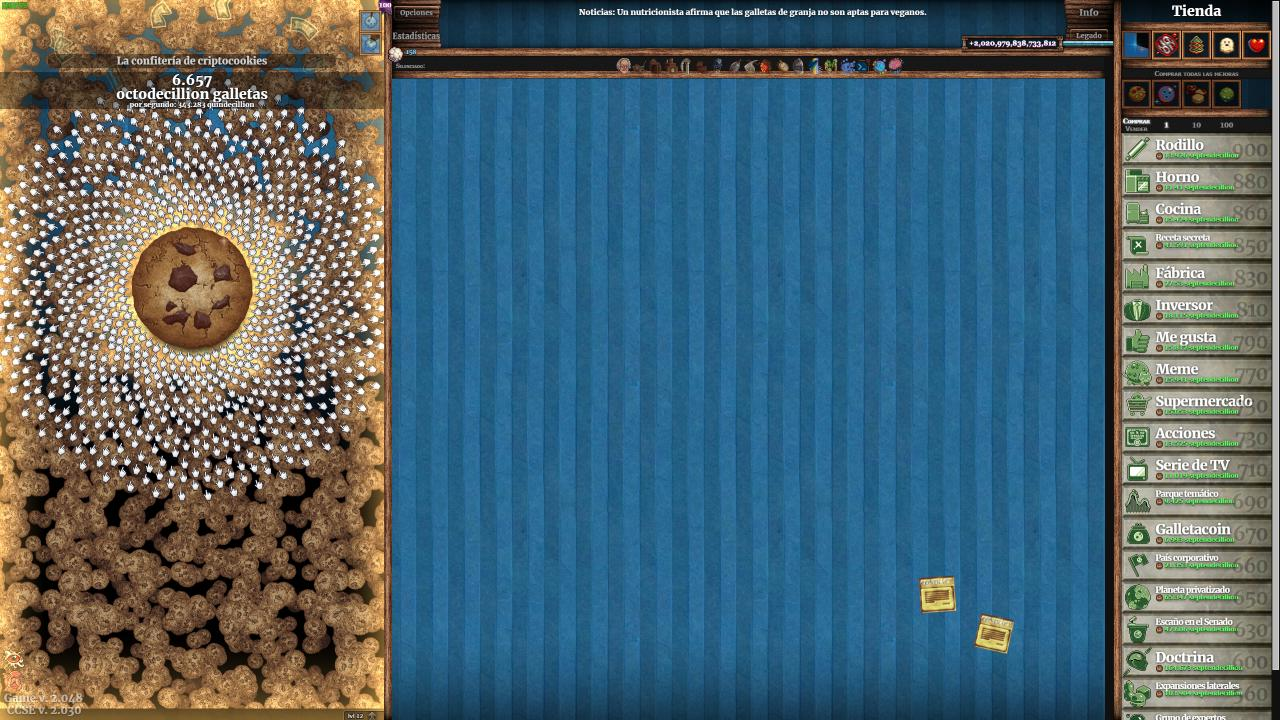GoldenCartridge: (972, 612, 1016, 656), (918, 574, 959, 615)
